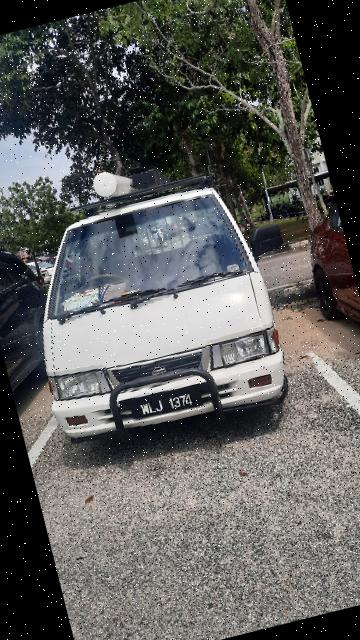License_Plate: (128, 381, 205, 423)
van: (1, 134, 302, 472)
